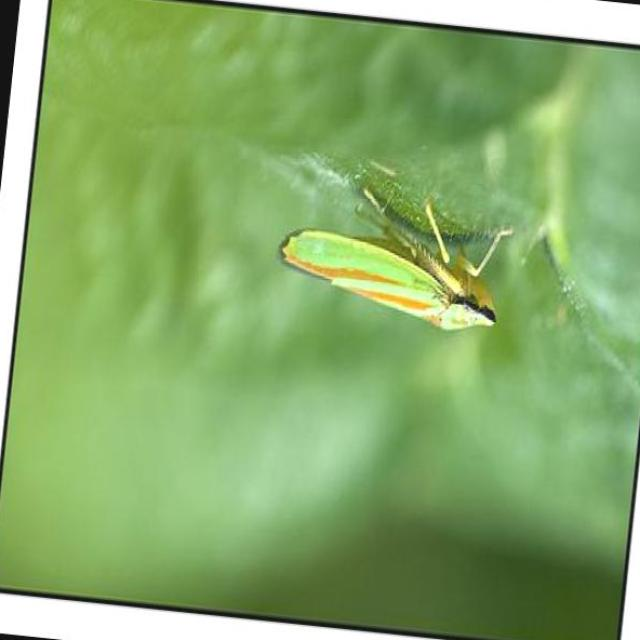green leaf hopper: (281, 204, 507, 330)
